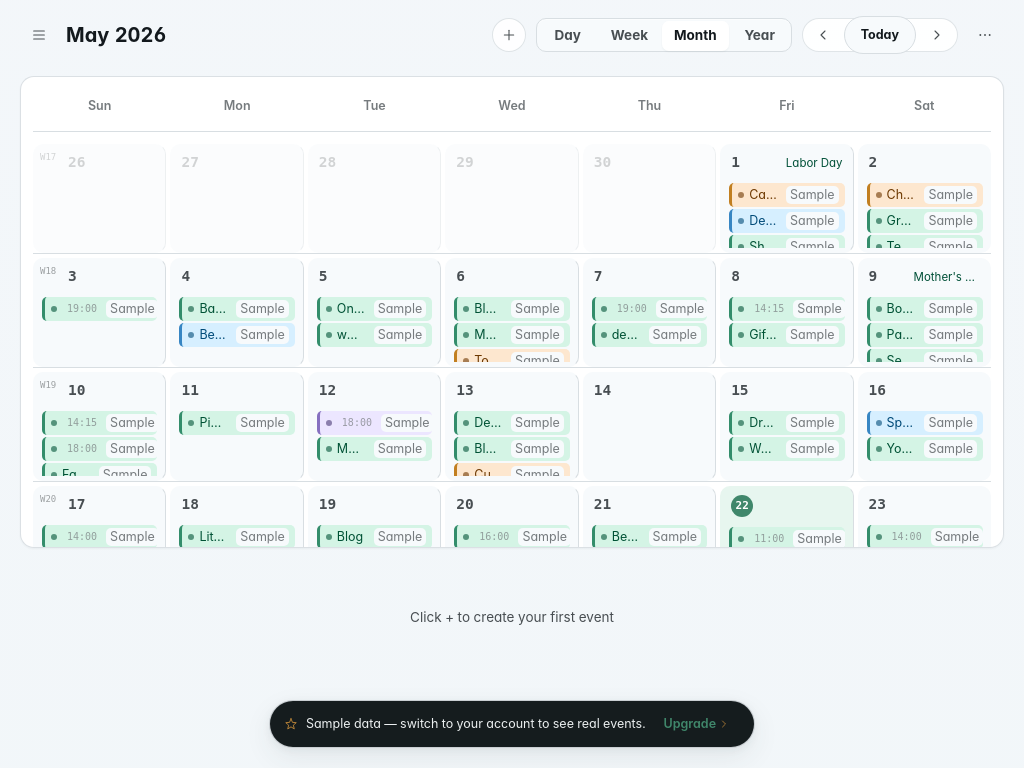
Test: CalendarModule render › AC-VIEW-5: clicking back to Month restores the grid
Click the tab "Week".
click(629, 36)  # box [599,21,660,51]
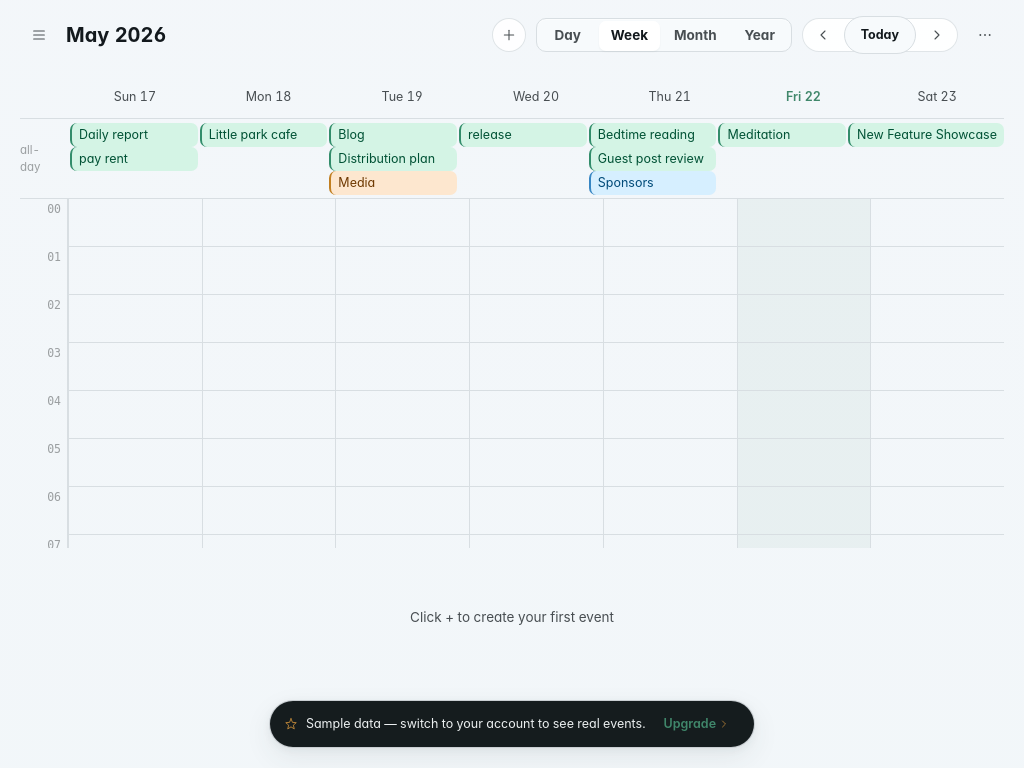
Click the tab "Month".
click(695, 36)  # box [662,21,729,51]
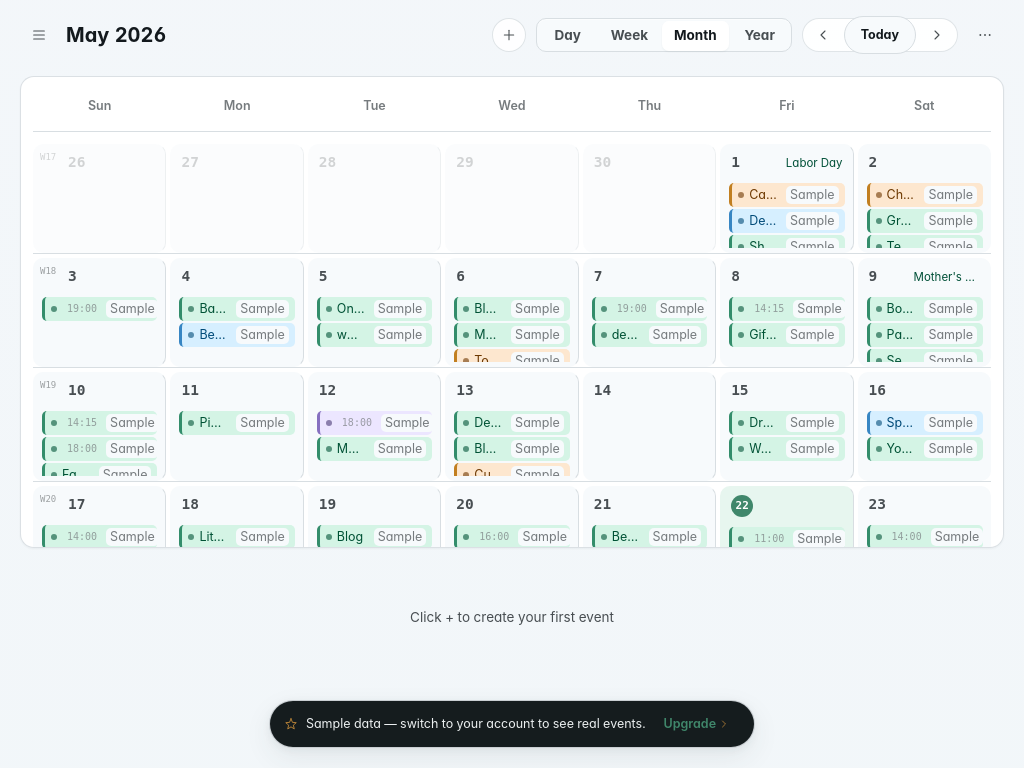
expect the element with class "cal-day" showing "W17 26" is shown: met, box [33,144,166,253]
